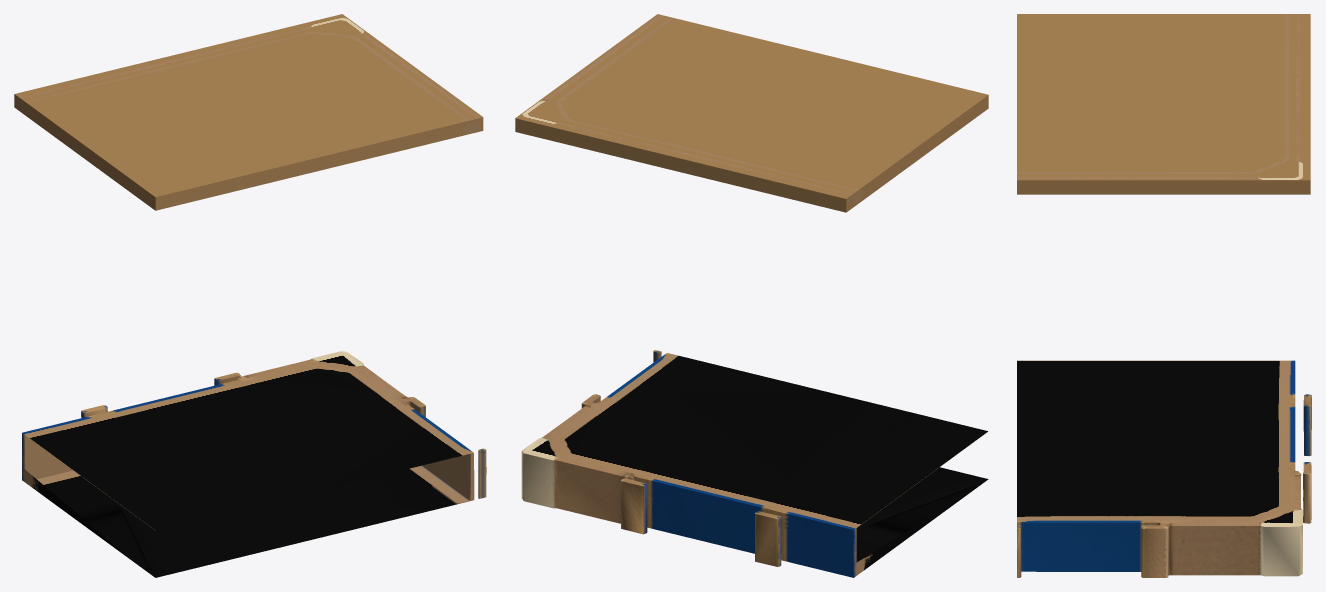
File: 12-roof-back-right.fbx
The picture shows the model from 3 angles, left to right: view 1: azimuth 30°, elevation 25°; view 2: azimuth 150°, elevation 25°; view 3: azimuth 270°, elevation 25°; orthographic projection. The views are drawn at different scales.
Visible parts, largest first — view 1: roof-back-right; view 2: roof-back-right; view 3: roof-back-right.
Part boxes in pixels (x1,y1,x2,y2): roof-back-right: (14, 14, 486, 577); roof-back-right: (515, 14, 988, 577); roof-back-right: (1017, 14, 1311, 577).
Size of the model in its own units: 5115 by 5621 by 3791.
1 material, 1 textured.
